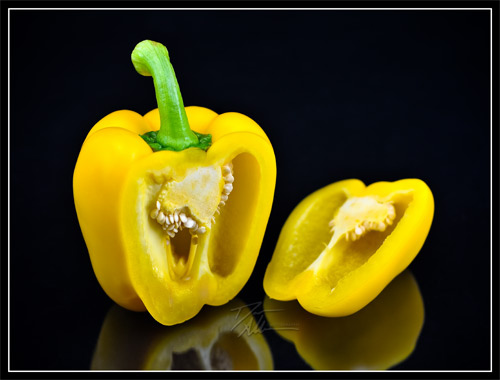capsicum: (70, 40, 278, 328), (260, 153, 435, 320)
